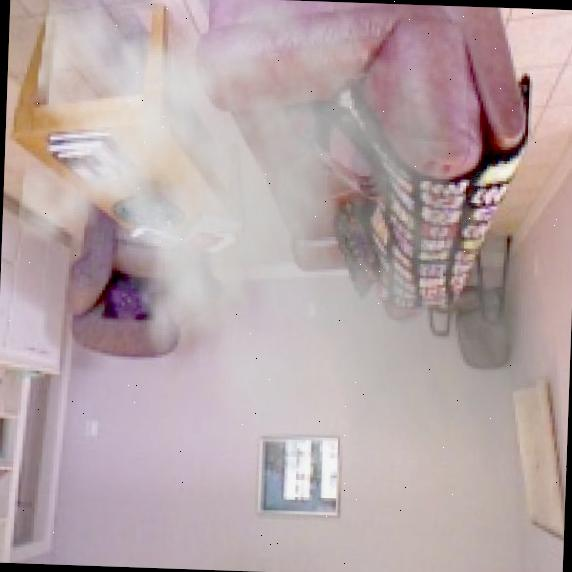smoke: (5, 0, 572, 531)
